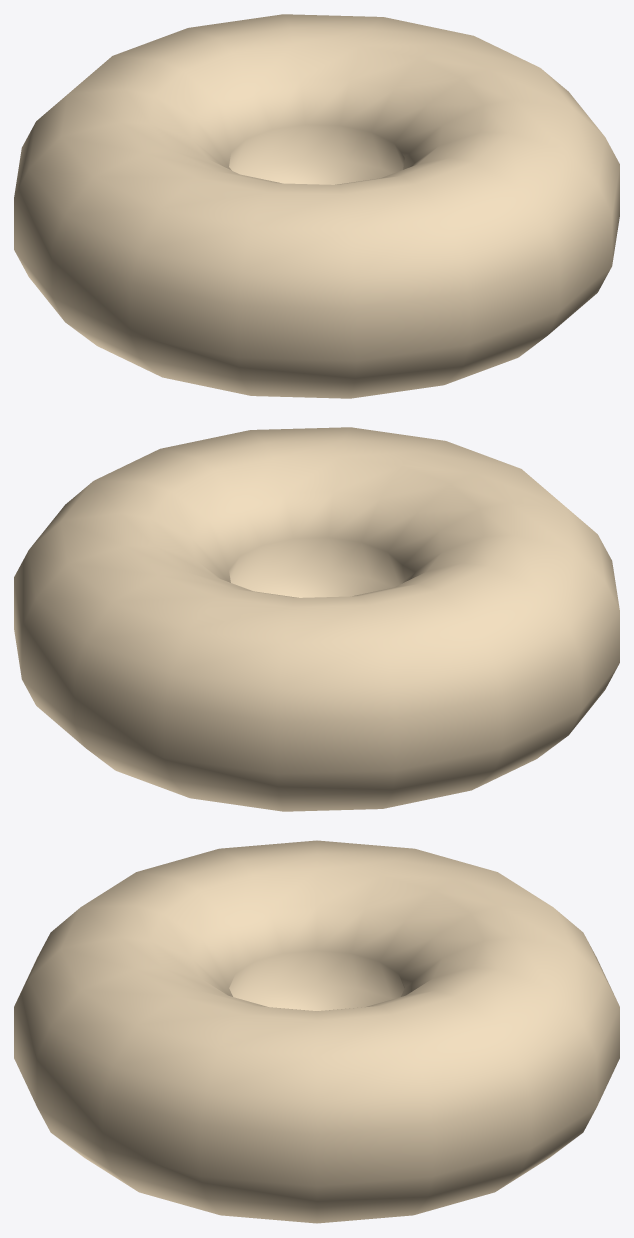
The model's file is Cushion (2).fbx.
The picture shows the model from 3 angles, top to bottom: view 1: azimuth 30°, elevation 25°; view 2: azimuth 150°, elevation 25°; view 3: azimuth 270°, elevation 25°; orthographic projection.
Parts seen in each view (by area): view 1: Cushion; view 2: Cushion; view 3: Cushion.
Part boxes in pixels (bbox=[...]): Cushion: bbox=[14, 14, 619, 398]; Cushion: bbox=[14, 427, 619, 811]; Cushion: bbox=[14, 840, 619, 1223].
Bounding box in the file's own units: 4.41 × 1.49 × 4.41.
